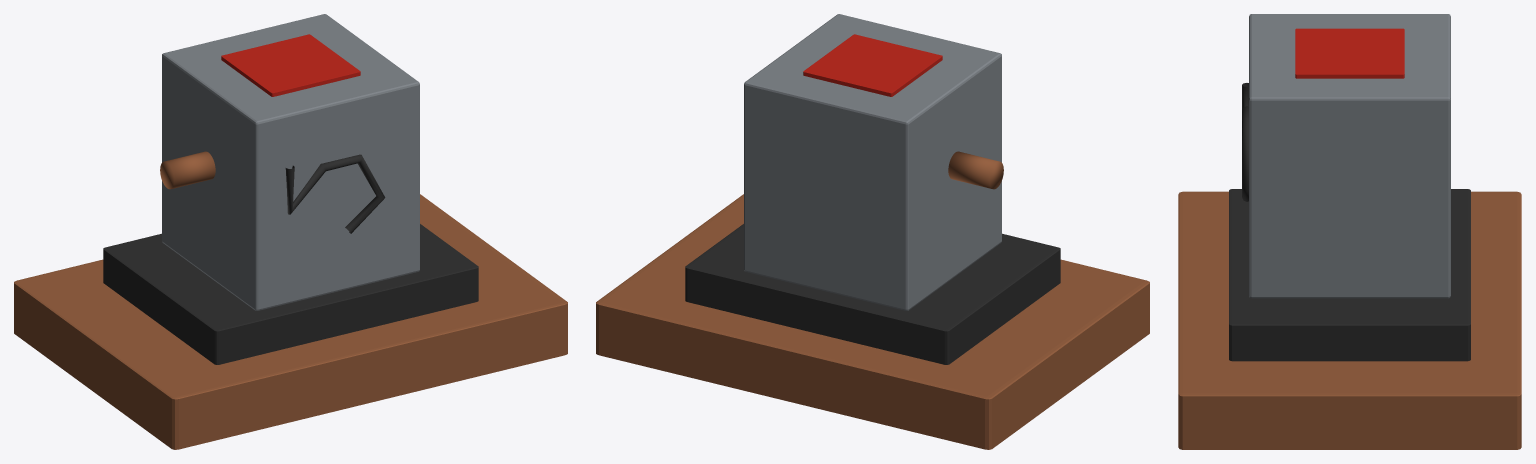
3 views of the same model, side by side, from view 1: azimuth 30°, elevation 25°; view 2: azimuth 150°, elevation 25°; view 3: azimuth 270°, elevation 25° (orthographic). The views are drawn at different scales.
Visible parts, largest first — view 1: TI068 / gray inscribed cube, TI068 / low wide relic plinth, TI068 / stepped slab, TI068 / red top seal, TI068 / authored angular front motif, TI068 / side connector; view 2: TI068 / gray inscribed cube, TI068 / low wide relic plinth, TI068 / stepped slab, TI068 / red top seal, TI068 / side connector; view 3: TI068 / gray inscribed cube, TI068 / low wide relic plinth, TI068 / stepped slab, TI068 / red top seal, TI068 / authored angular front motif.
Boxes of the visible parts, box(x1,y1,x2,y2) form: TI068 / gray inscribed cube: box(162, 14, 419, 310); TI068 / low wide relic plinth: box(14, 194, 567, 449); TI068 / stepped slab: box(103, 224, 478, 364); TI068 / red top seal: box(221, 34, 360, 96); TI068 / authored angular front motif: box(285, 154, 385, 233); TI068 / side connector: box(160, 151, 215, 189); TI068 / gray inscribed cube: box(744, 14, 1001, 310); TI068 / low wide relic plinth: box(596, 194, 1149, 449); TI068 / stepped slab: box(685, 224, 1060, 364); TI068 / red top seal: box(803, 34, 942, 96); TI068 / side connector: box(948, 151, 1003, 189); TI068 / gray inscribed cube: box(1249, 14, 1450, 298); TI068 / low wide relic plinth: box(1178, 191, 1521, 449); TI068 / stepped slab: box(1229, 189, 1470, 361); TI068 / red top seal: box(1295, 28, 1404, 78); TI068 / authored angular front motif: box(1242, 83, 1248, 201).
Size of the model in its own units: 2.4 by 1.62 by 1.7.
